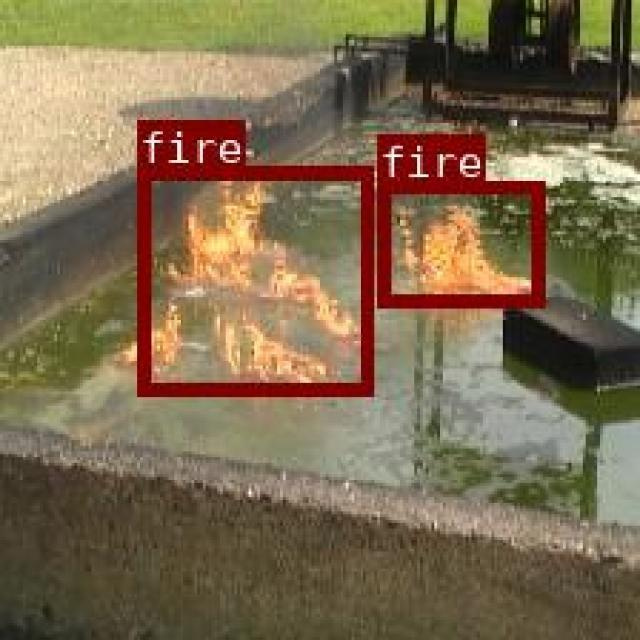fire: (136, 164, 369, 393), (375, 178, 541, 304)
